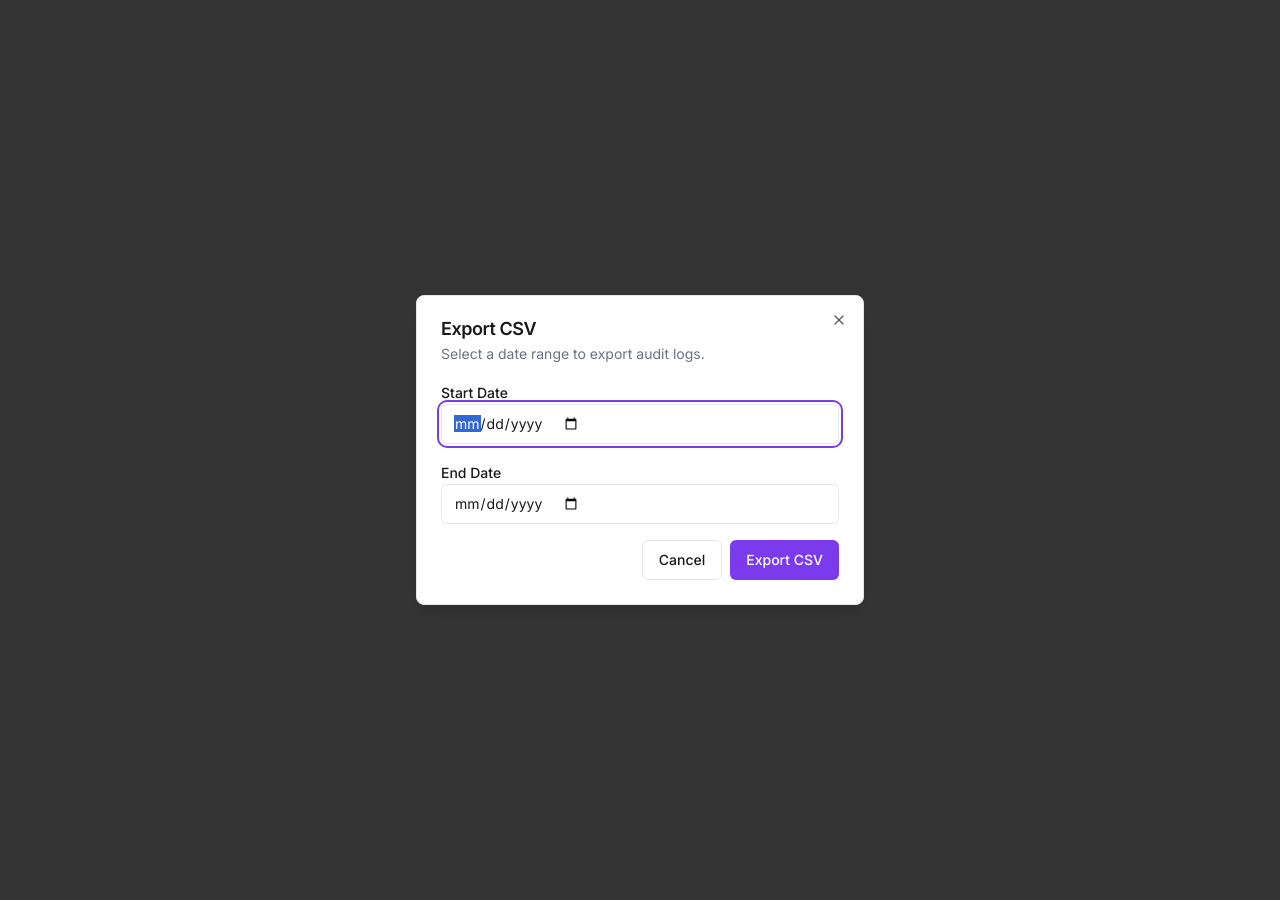
it: AuditLogExportDialog › rejects an end date before the start date
In the date field with test id "export-date-from": (640, 424) [441,404,839,444], type "2026-01-31"
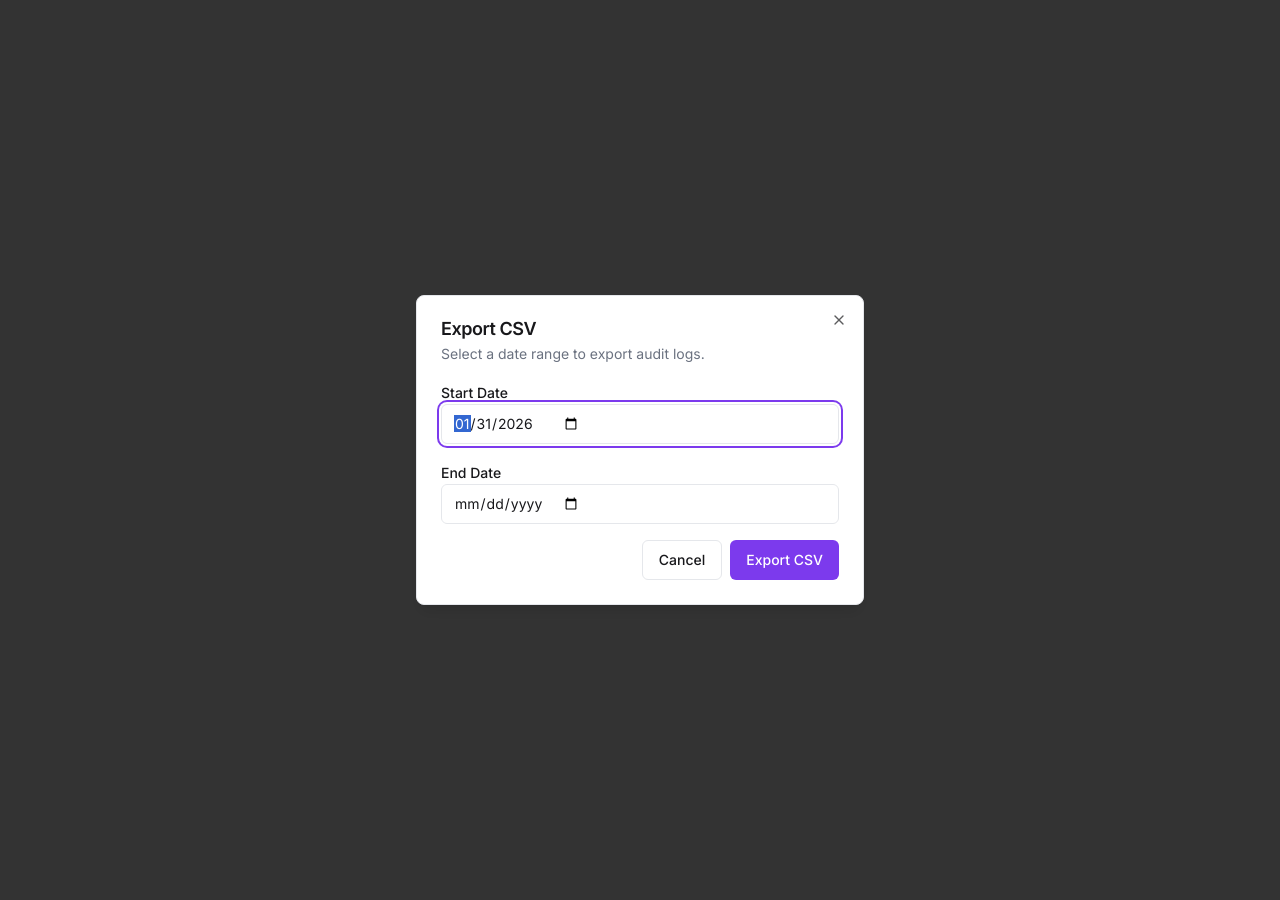
In the date field with test id "export-date-to": (640, 504) [441,484,839,524], type "2026-01-01"
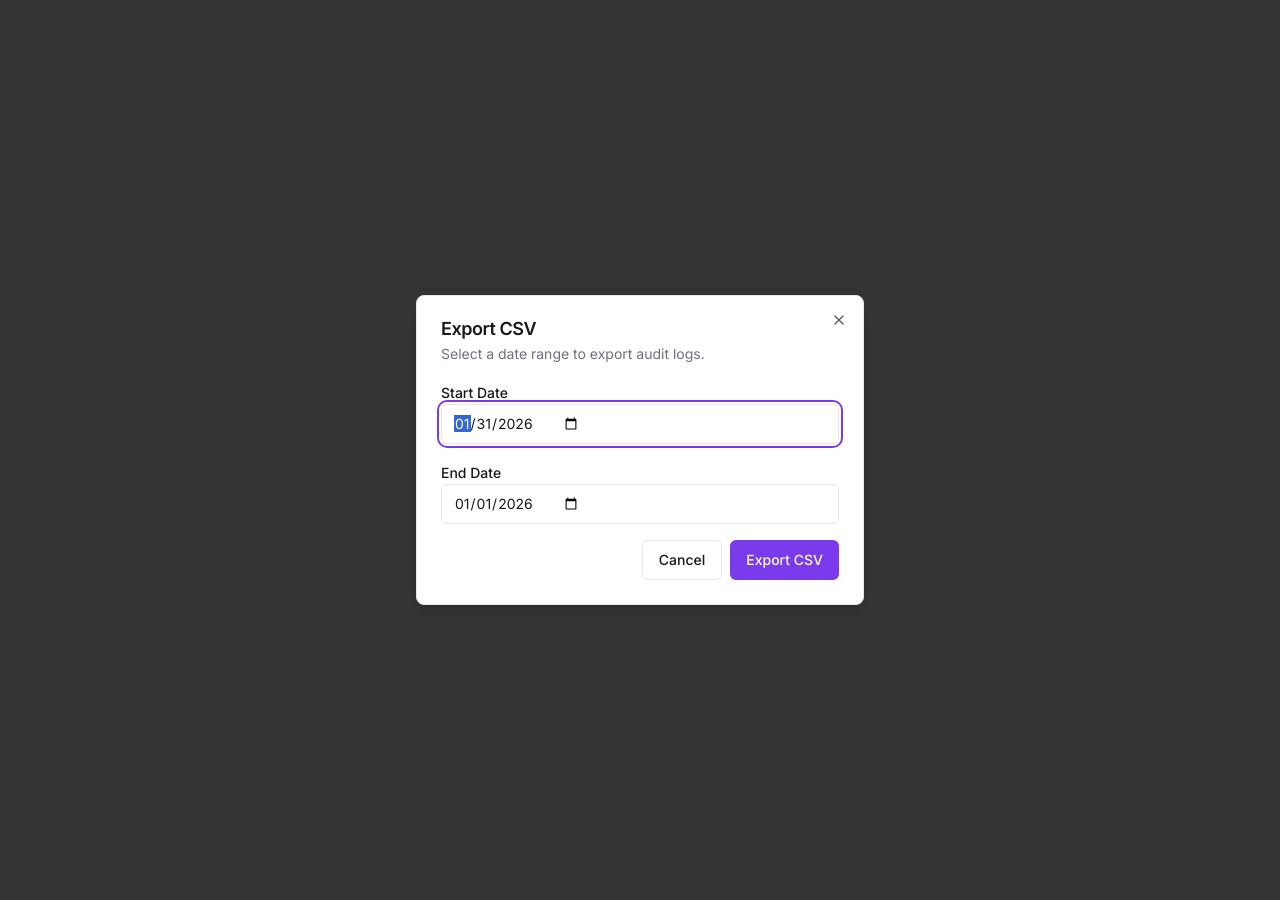
Click the button with test id "export-confirm": (785, 560) [730,540,839,580]
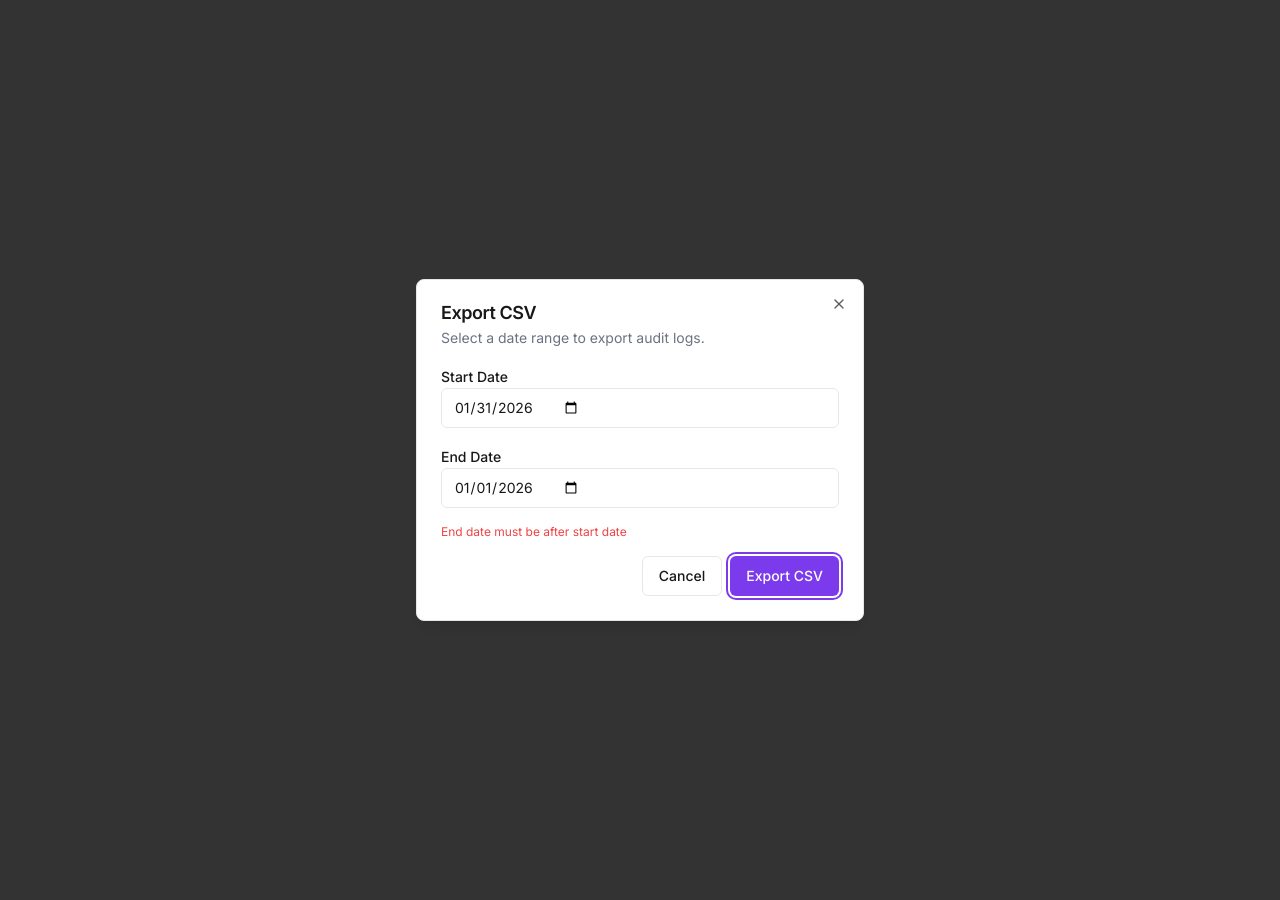
Expected: the message with test id "export-range-error" reads "End date must be after start date", [441,524,627,539]
